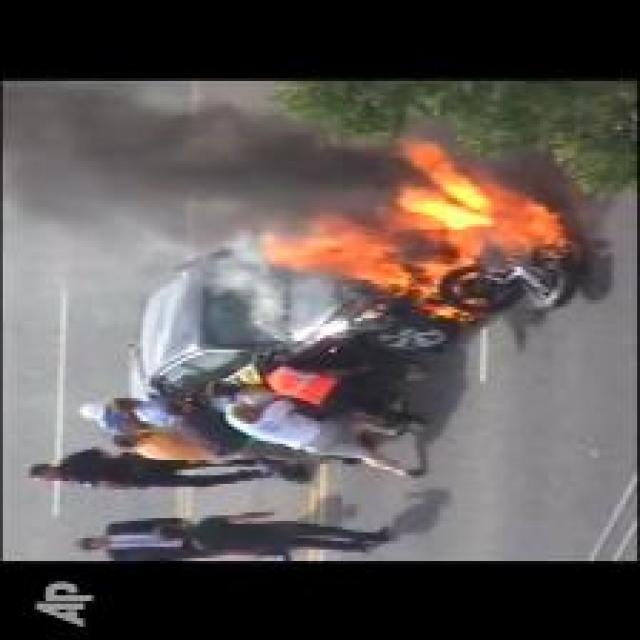Fire: (267, 143, 573, 320)
